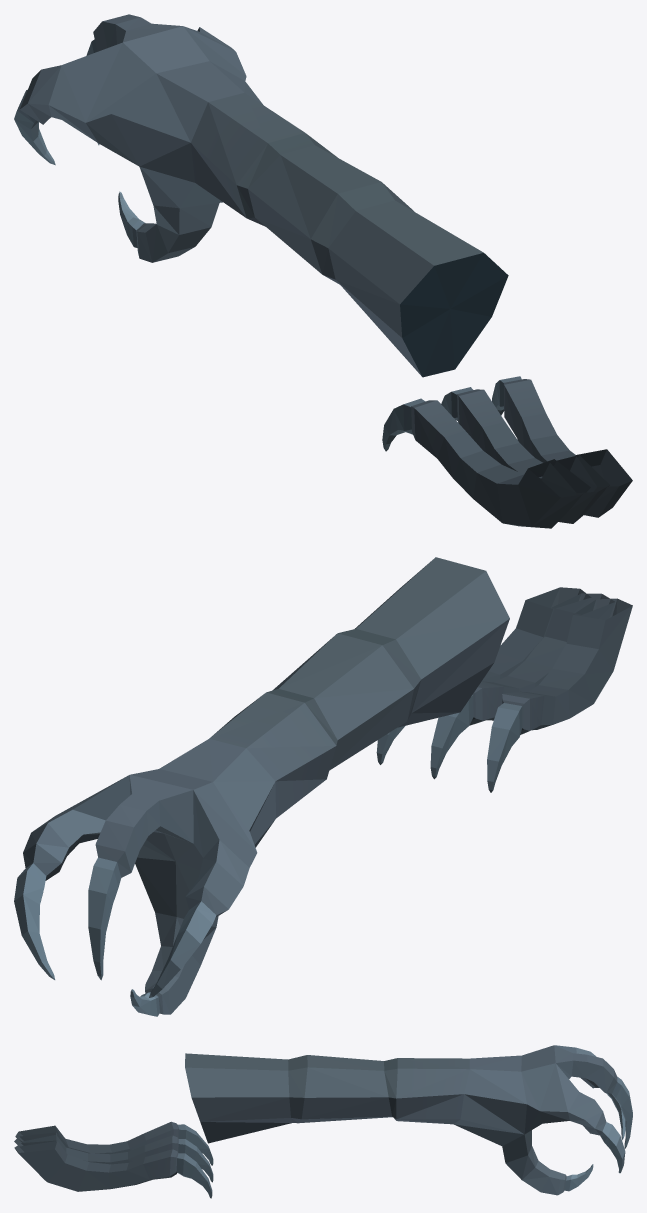
File: largeCrossbowDragonHandle.glb
3 views of the same model, one above another, from view 1: azimuth 30°, elevation 25°; view 2: azimuth 150°, elevation 25°; view 3: azimuth 270°, elevation 25° (orthographic). The views are drawn at different scales.
Visible parts, largest first — view 1: largeCrossbowDragonHandle; view 2: largeCrossbowDragonHandle; view 3: largeCrossbowDragonHandle.
Part boxes in pixels (bbox=[...]): largeCrossbowDragonHandle: bbox=[14, 14, 632, 528]; largeCrossbowDragonHandle: bbox=[14, 557, 632, 1016]; largeCrossbowDragonHandle: bbox=[14, 1045, 632, 1198].
Bounding box in the file's own units: 0.1529 × 0.1584 × 0.6446.
